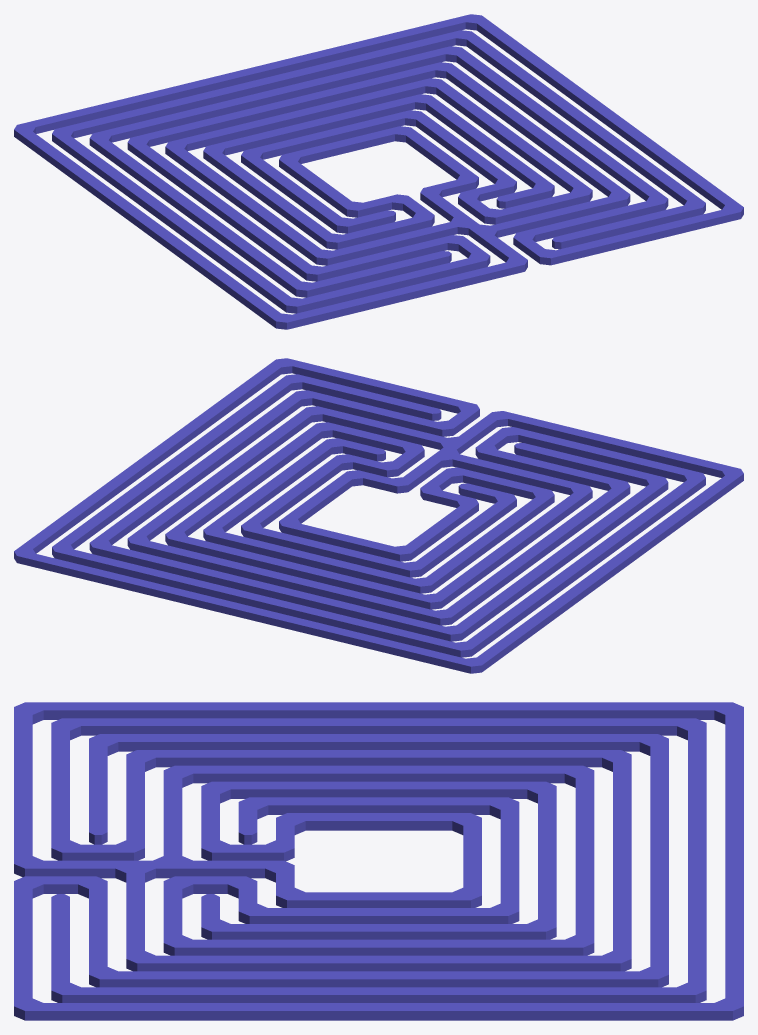
File: labirentmodeli.FBX
The picture shows the model from 3 angles, top to bottom: view 1: azimuth 30°, elevation 25°; view 2: azimuth 150°, elevation 25°; view 3: azimuth 270°, elevation 25°; orthographic projection. The views are drawn at different scales.
Parts seen in each view (by area): view 1: Labyrinth_A1; view 2: Labyrinth_A1; view 3: Labyrinth_A1.
Part boxes in pixels (<box>): Labyrinth_A1: <box>14,14,743,329</box>; Labyrinth_A1: <box>14,358,743,673</box>; Labyrinth_A1: <box>14,702,743,1020</box>.
Size of the model in its own units: 63.65 by 0.9287 by 63.65.
